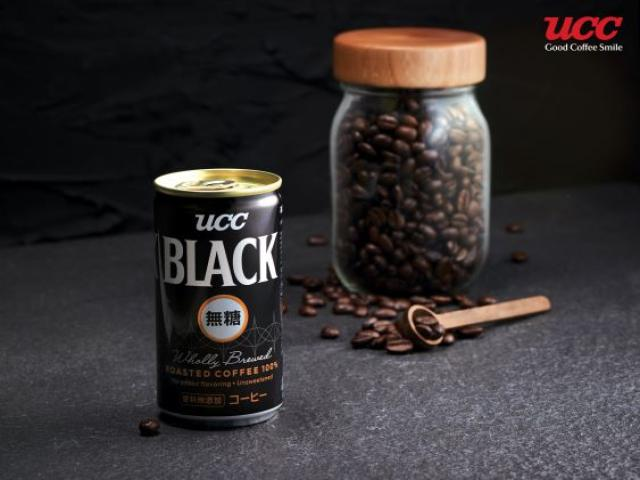Canned_drinks: (154, 168, 282, 426)
